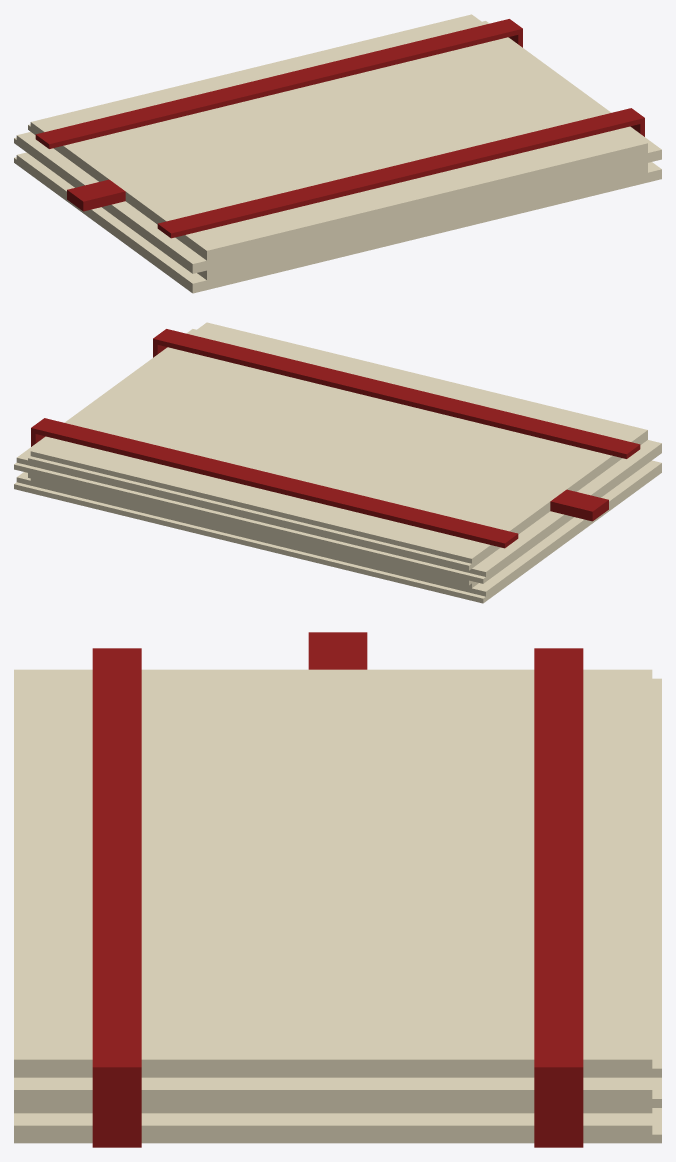
Rendered from dish_towel.glb.
The picture shows the model from 3 angles, top to bottom: view 1: azimuth 30°, elevation 25°; view 2: azimuth 150°, elevation 25°; view 3: azimuth 270°, elevation 25°; orthographic projection. The views are drawn at different scales.
Parts seen in each view (by area): view 1: dish_towel:compound; view 2: dish_towel:compound; view 3: dish_towel:compound.
Part boxes in pixels (bbox=[...]): dish_towel:compound: bbox=[14, 14, 661, 293]; dish_towel:compound: bbox=[14, 322, 661, 603]; dish_towel:compound: bbox=[14, 632, 661, 1147].
Size of the model in its own units: 0.214 by 0.018 by 0.132.
